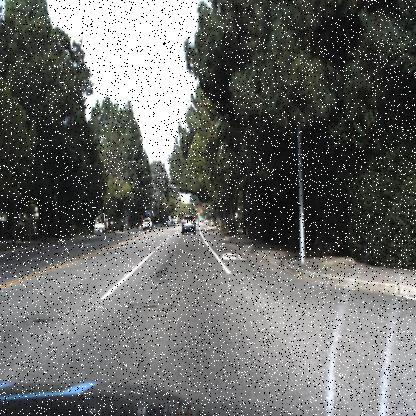car: (180, 213, 198, 236), (91, 217, 108, 235), (142, 214, 154, 232)
